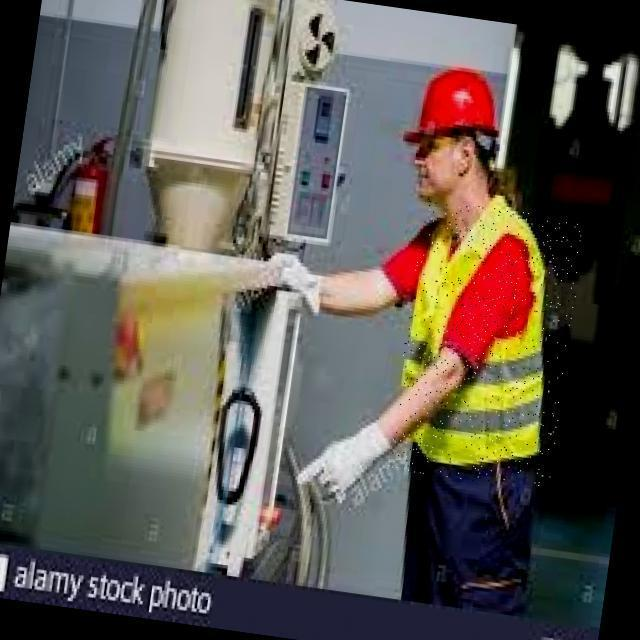helmet: (405, 61, 509, 156)
vest: (387, 199, 587, 492)
